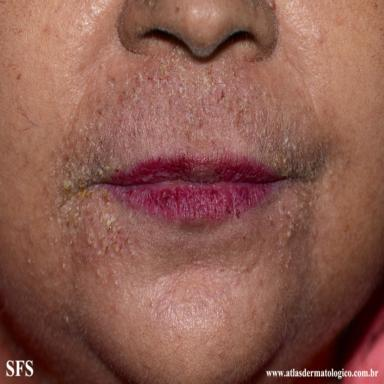Darier_s-Disease: (45, 48, 332, 279)
